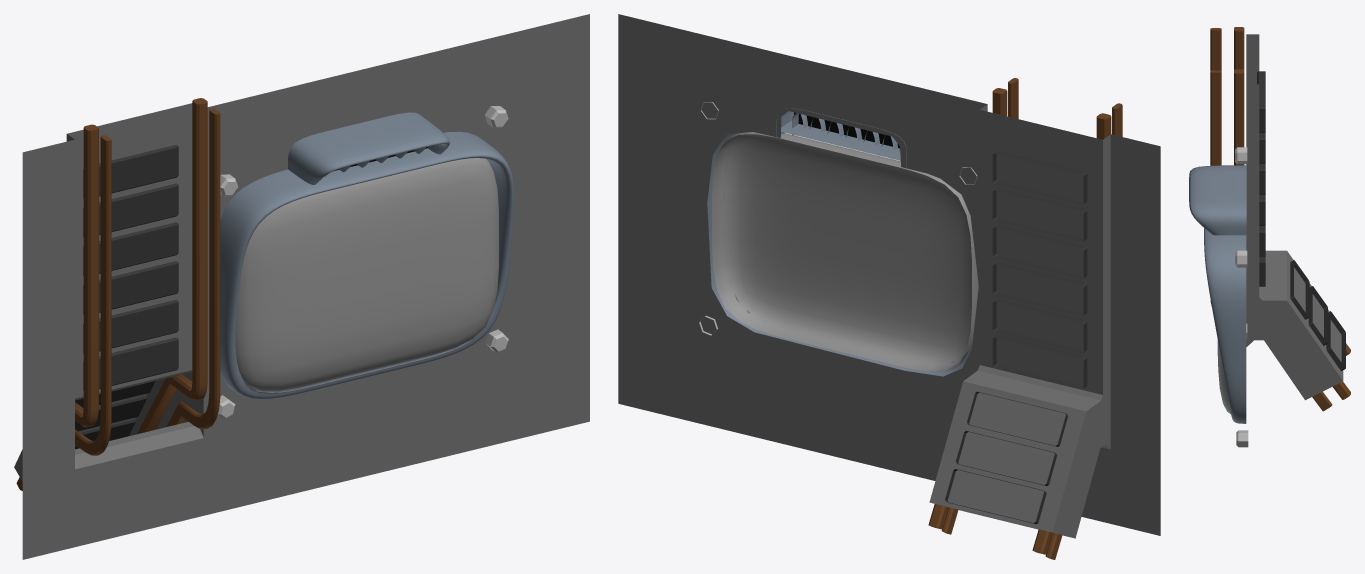
The model's file is ControlPanel.FBX.
3 renders of one model, left to right at view 1: azimuth 30°, elevation 25°; view 2: azimuth 150°, elevation 25°; view 3: azimuth 270°, elevation 25°, orthographic. The views are drawn at different scales.
Visible parts, largest first — view 1: PanelBack, Screen, BandBox, ScreenCap, Beam01, Beam02, SpeakerCover; view 2: PanelBack, Screen, BandBox, ScreenCap, Beam01, Beam02, Object001; view 3: PanelBack, ScreenCap, SpeakerCover, BandBox, Beam01, Beam02, Screen, Nut04, Nut02, Nut01.
Part boxes in pixels (x1,y1,x2,y2): PanelBack: [14, 14, 589, 559]; Screen: [235, 158, 498, 392]; BandBox: [75, 144, 178, 449]; ScreenCap: [220, 131, 514, 399]; Beam01: [137, 98, 220, 434]; Beam02: [16, 124, 111, 490]; SpeakerCover: [288, 112, 449, 184]; PanelBack: [618, 14, 1160, 538]; Screen: [712, 132, 978, 371]; BandBox: [945, 150, 1087, 524]; ScreenCap: [707, 121, 978, 376]; Beam01: [928, 78, 1018, 534]; Beam02: [1032, 103, 1122, 559]; Object001: [794, 112, 900, 148]; PanelBack: [1246, 34, 1343, 400]; ScreenCap: [1204, 228, 1246, 423]; SpeakerCover: [1189, 165, 1246, 241]; BandBox: [1257, 71, 1345, 370]; Beam01: [1210, 69, 1350, 411]; Beam02: [1210, 27, 1350, 355]; Screen: [1217, 340, 1230, 413]; Nut04: [1236, 430, 1248, 447]; Nut02: [1235, 147, 1247, 164]; Nut01: [1235, 250, 1247, 267].
Size of the model in its own units: 90.83 by 65.07 by 28.11.
